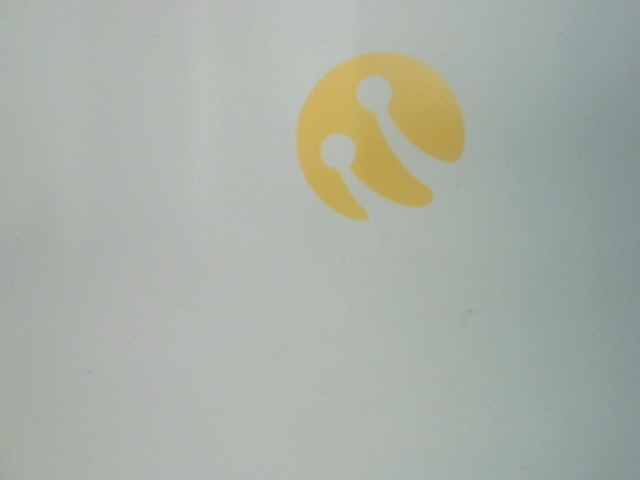AV_H3600Yellow: (286, 53, 481, 222)
